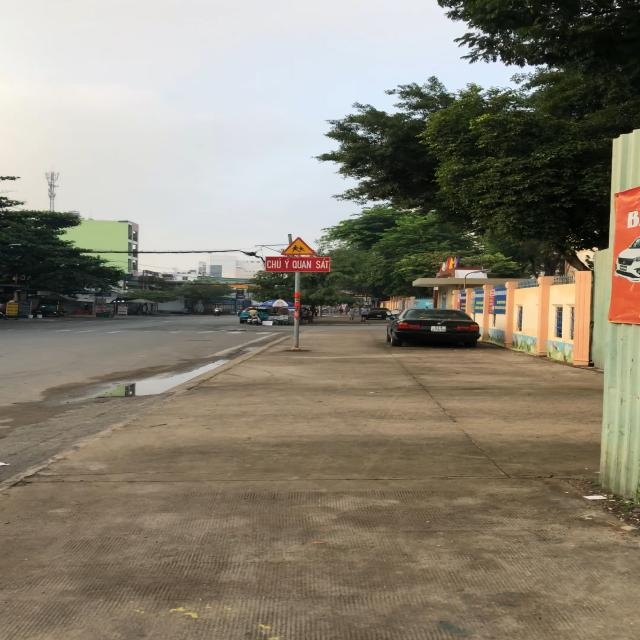Bien bao tre em: (279, 236, 320, 256)
